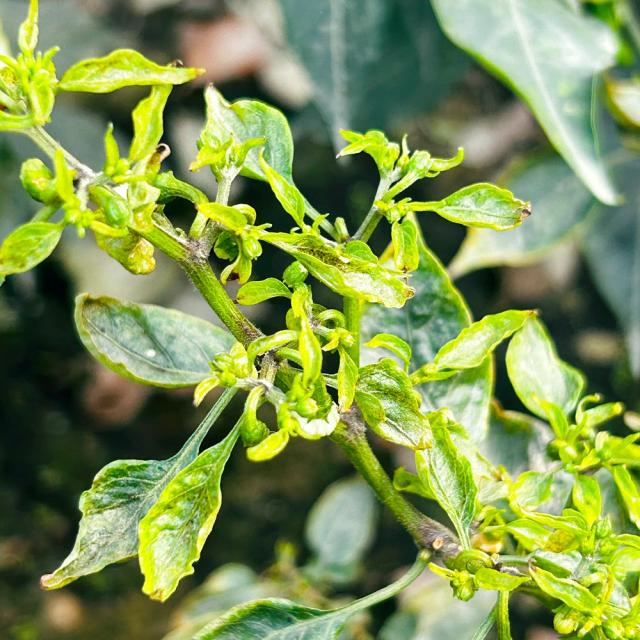Chilli_Leaf_Curl: (1, 1, 638, 638), (39, 383, 249, 602), (428, 0, 633, 207), (72, 292, 240, 391), (352, 355, 435, 452)
